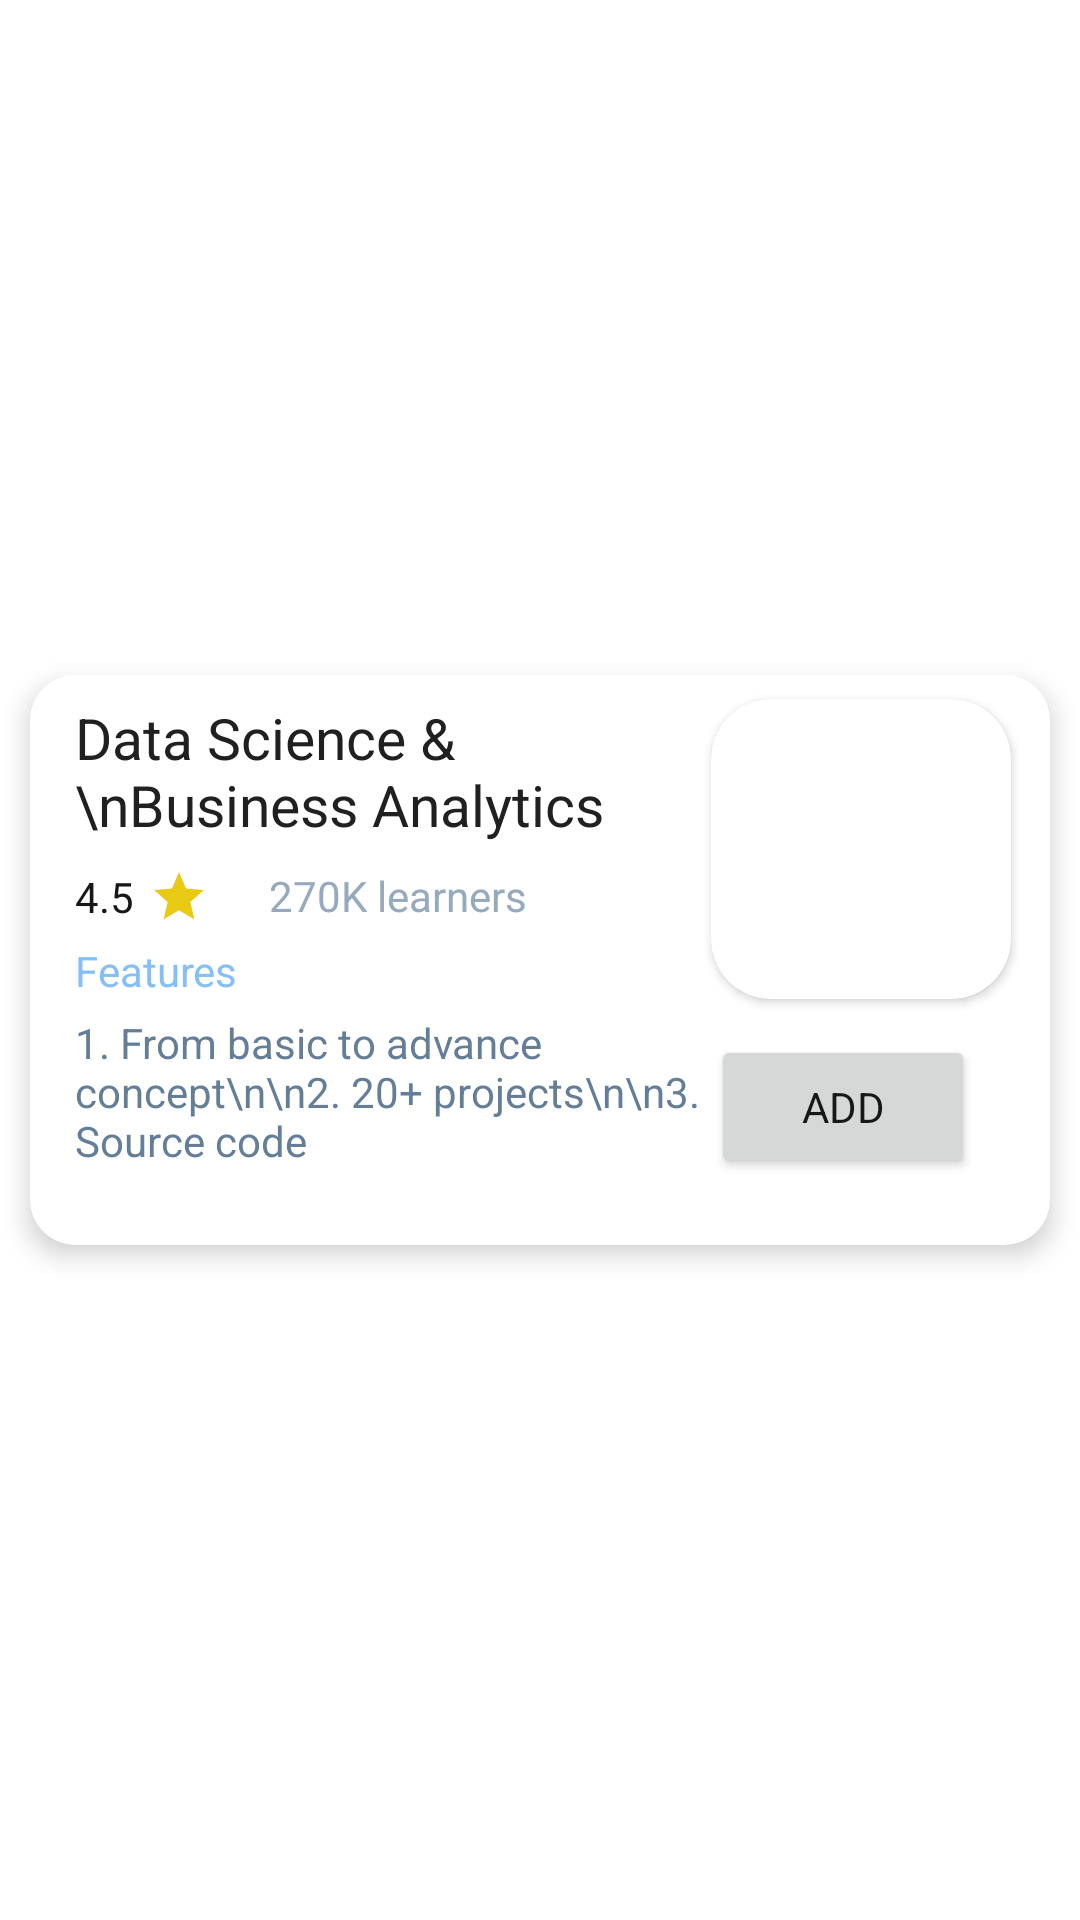

Icon click points for this 1080 × 1920 phone screenshot, format point (x, y):
star: point (179, 896)
